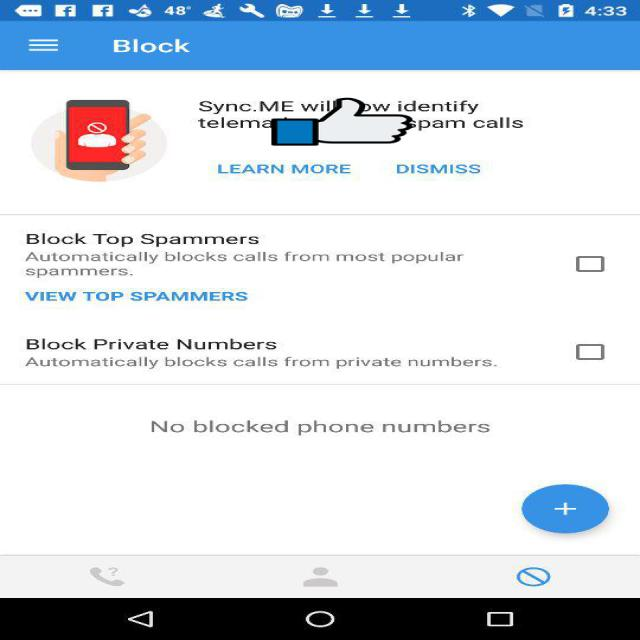privacy zuckering: (272, 96, 412, 146)
